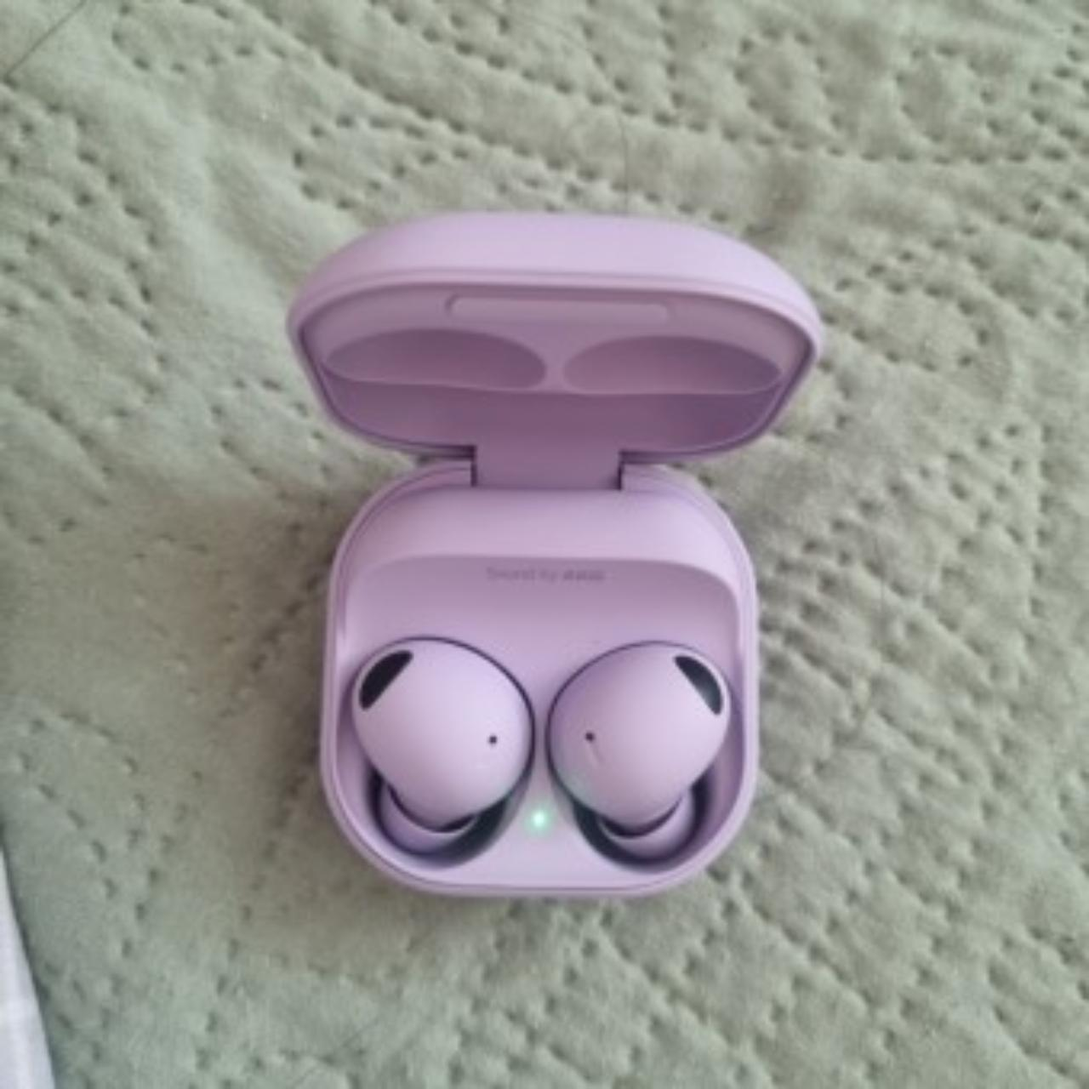Buds: (276, 195, 827, 925)
Buds_Units: (336, 629, 538, 875), (540, 633, 744, 873)
